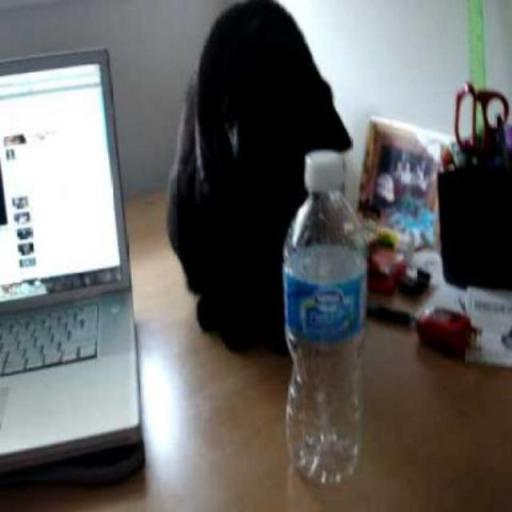Coca: (278, 147, 376, 496)
